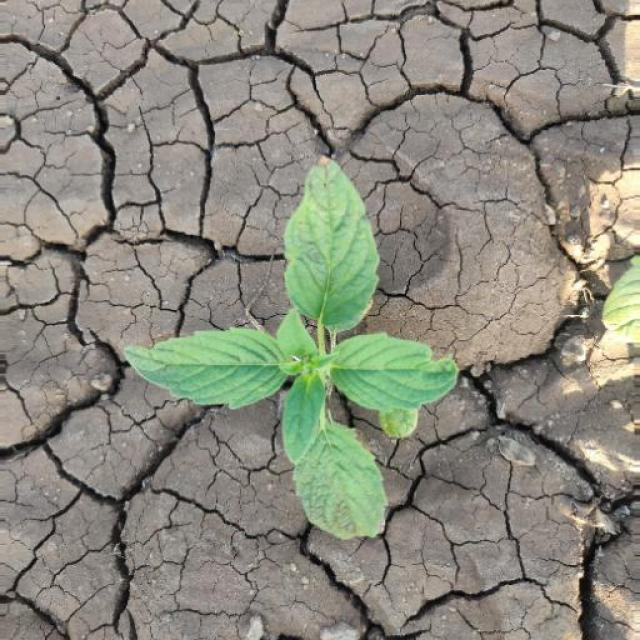crop: (116, 120, 475, 548)
